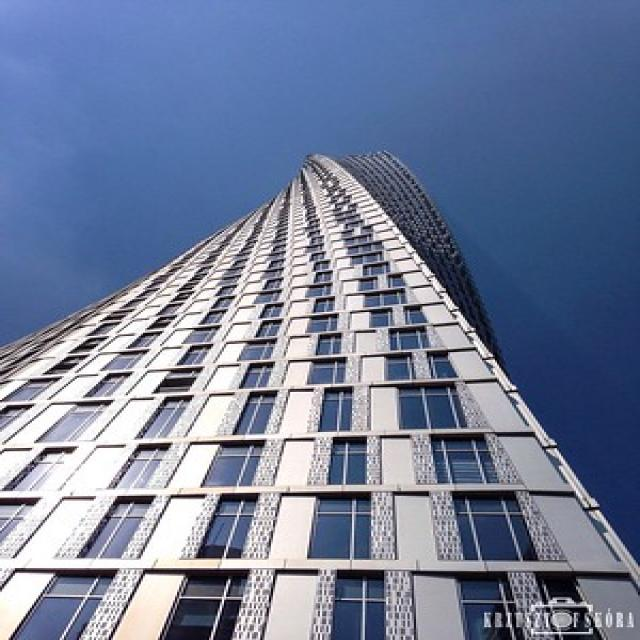Normal_building: (8, 118, 640, 639)
